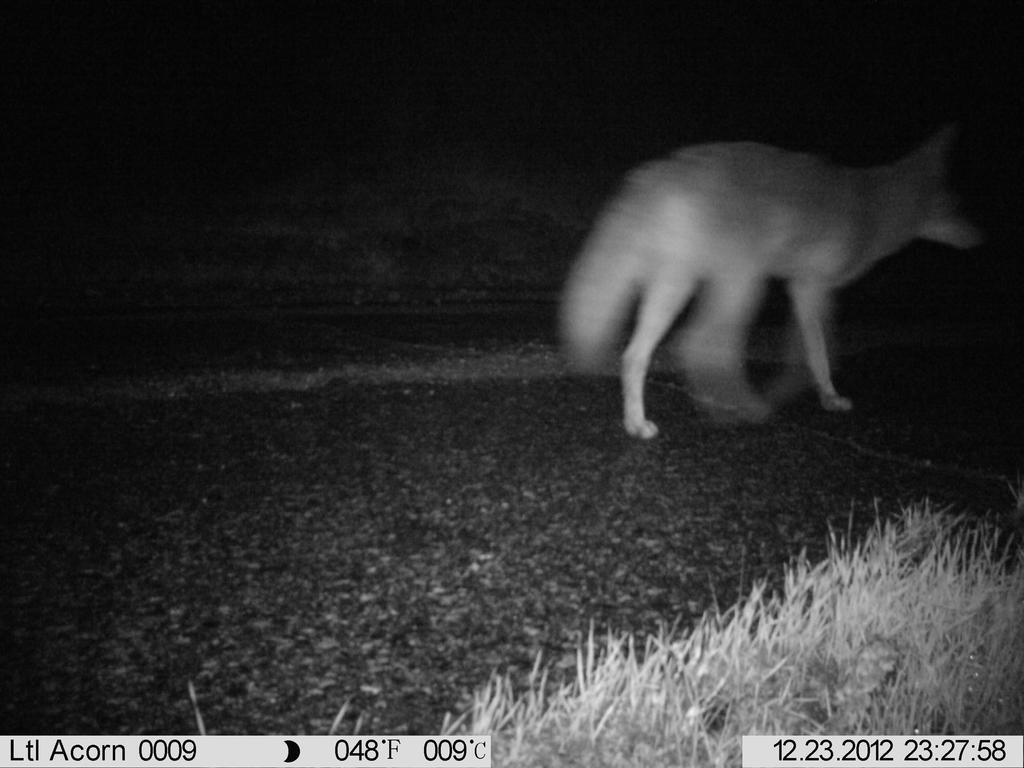coyote: (539, 123, 1010, 443)
